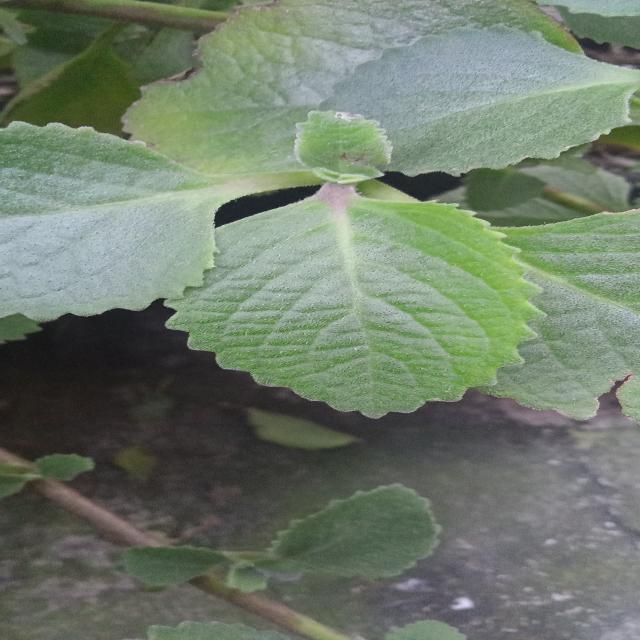Oregano: (124, 112, 623, 428)
